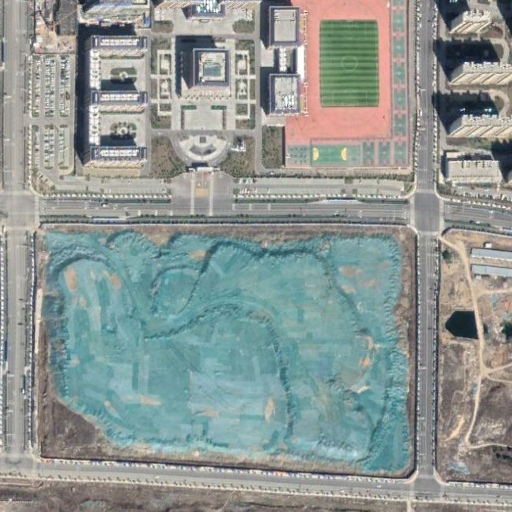cw: (35, 225, 416, 478)
